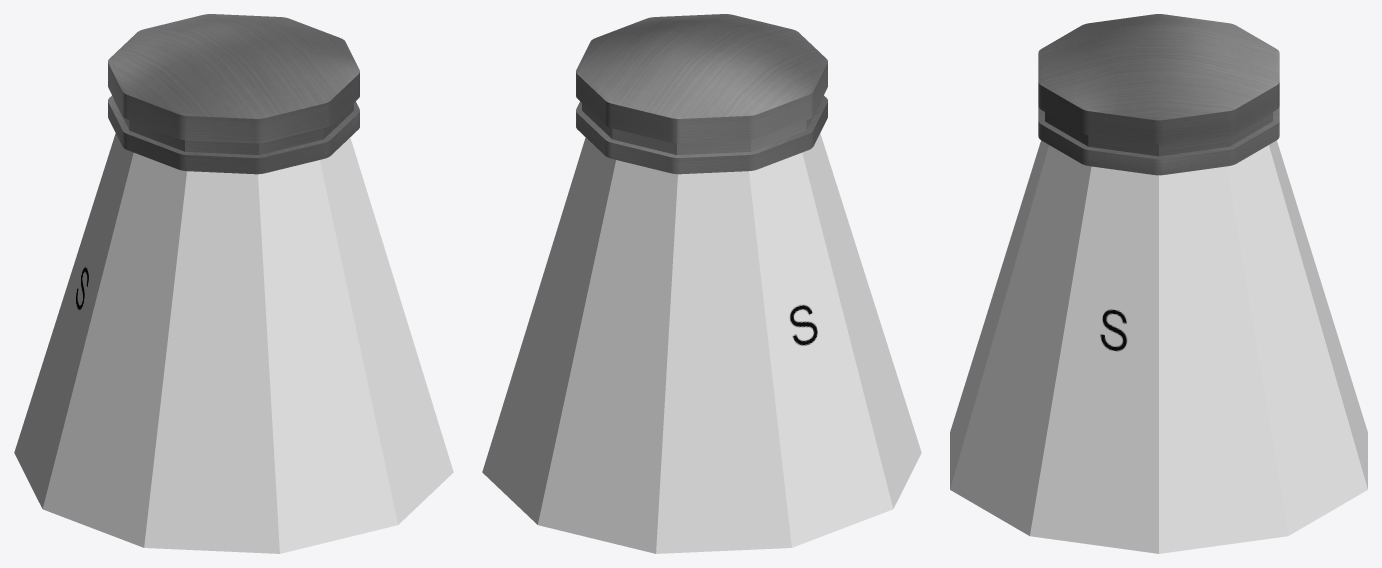
Rendered from Salt Shaker.fbx.
3 views of the same model, side by side, from view 1: azimuth 30°, elevation 25°; view 2: azimuth 150°, elevation 25°; view 3: azimuth 270°, elevation 25° (orthographic).
Visible parts, largest first — view 1: Salt_Shaker; view 2: Salt_Shaker; view 3: Salt_Shaker.
Boxes of the visible parts, bbox=[...] form: Salt_Shaker: bbox=[14, 14, 453, 553]; Salt_Shaker: bbox=[482, 14, 921, 553]; Salt_Shaker: bbox=[950, 14, 1367, 553].
Size of the model in its own units: 2.86 by 3 by 2.72.
1 material, 1 textured.
